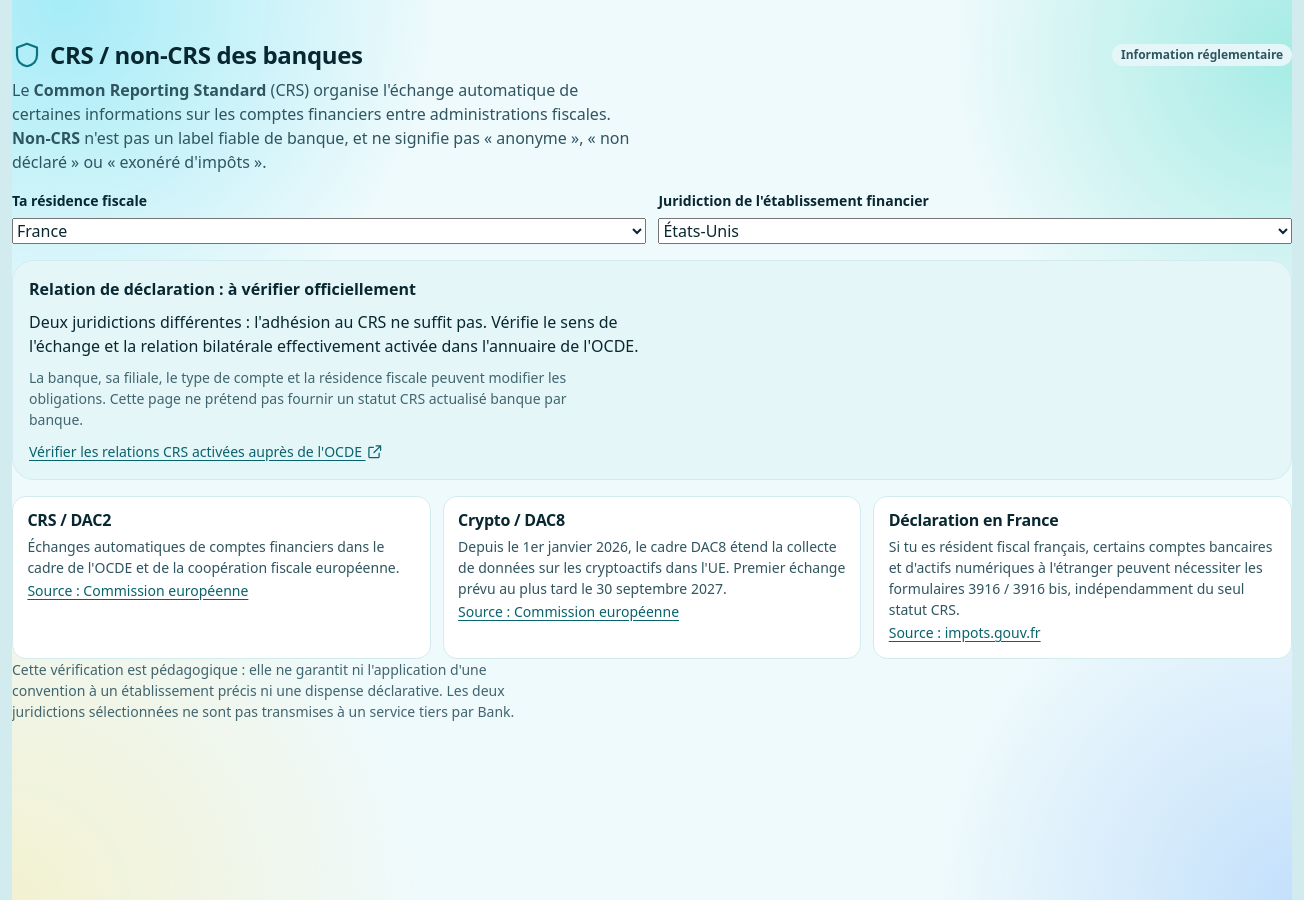
Test case: CRS et banques : information transparente, sans fausse classification › lets the reader explore two tax jurisdictions without exposing their account data
The width and height of the screenshot is (1304, 900).
Step 1. Select "États-Unis" in the dropdown labelled "Juridiction de l'établissement financier" → (975, 231), box [658,218,1292,244]
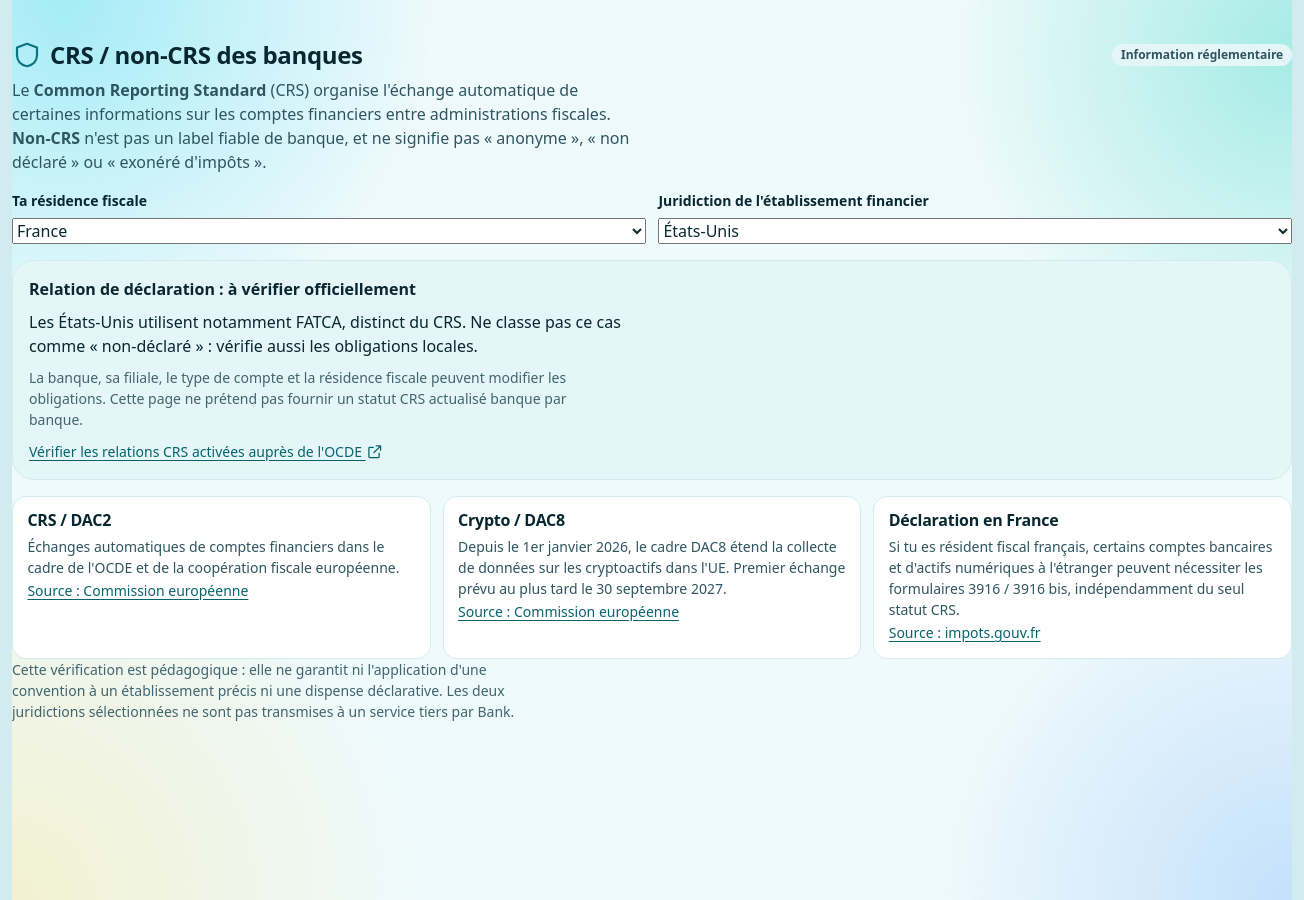
Expected: the text "3916" is shown, [889,537,1272,619]
Now the message with class "crs-result" shows "FATCA", box [29,311,621,357]
